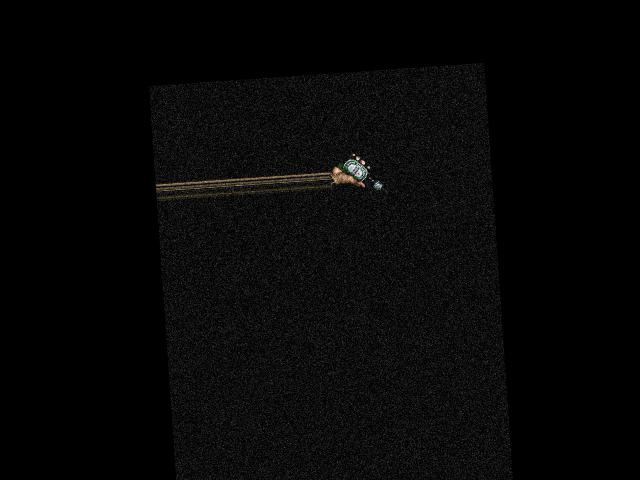beer: (334, 150, 389, 198)
